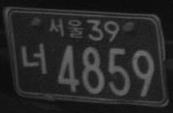3: (85, 17, 104, 42)
4: (55, 44, 80, 93)
5: (106, 46, 132, 97)
8: (81, 45, 106, 95)
9: (132, 48, 154, 97), (104, 19, 120, 42)
너: (19, 41, 47, 75)
서울_O: (48, 17, 84, 40)
